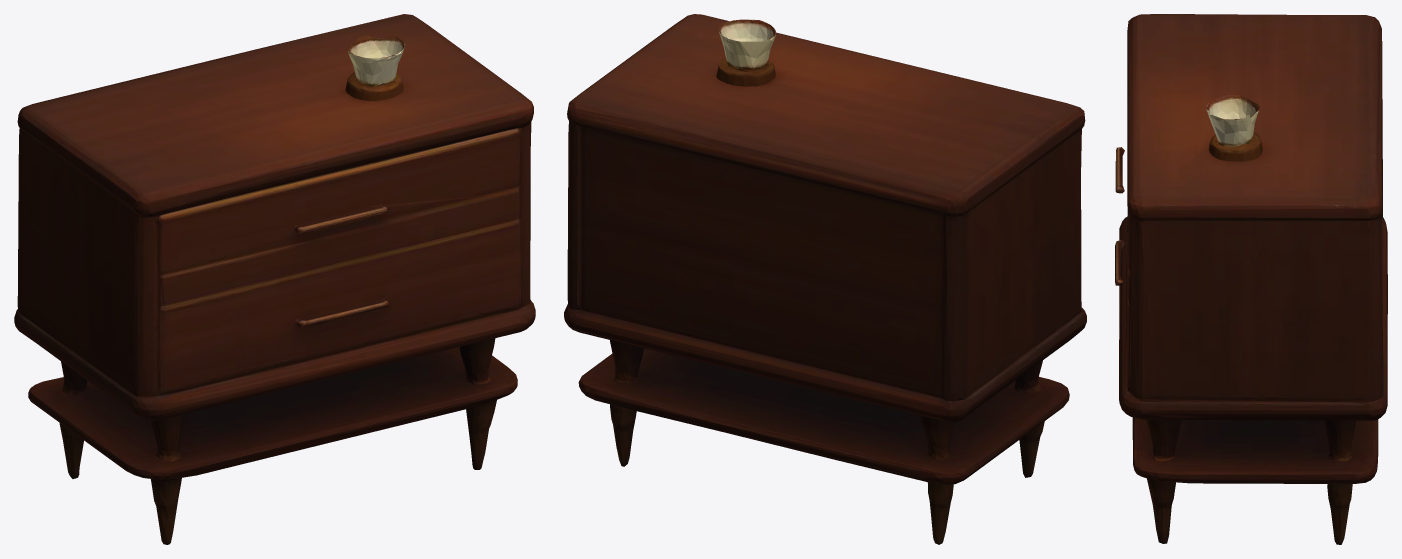
The model's file is dresser_dark.glb.
The picture shows the model from 3 angles, left to right: view 1: azimuth 30°, elevation 25°; view 2: azimuth 150°, elevation 25°; view 3: azimuth 270°, elevation 25°; orthographic projection. The views are drawn at different scales.
Parts seen in each view (by area): view 1: geometry_0; view 2: geometry_0; view 3: geometry_0.
Part boxes in pixels (x1,y1,x2,y2): geometry_0: (14,14,535,544); geometry_0: (564,14,1086,544); geometry_0: (1115,14,1387,544).
Bounding box in the file's own units: 0.4907 × 0.4815 × 0.2936.
Materials: 1 (1 with a texture image).
